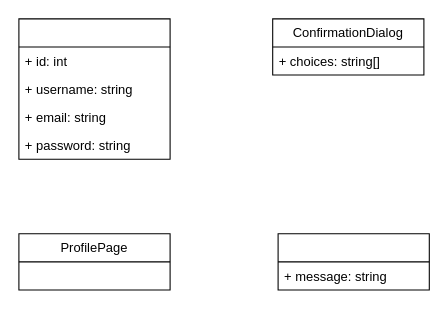
The diagram is 448 pixels wide and 312 high, and some of its shapes have lost their labels. Each missing label, with the box of its shape:
PopupMessage: (277, 233, 429, 290)
Profile: (18, 18, 170, 159)
